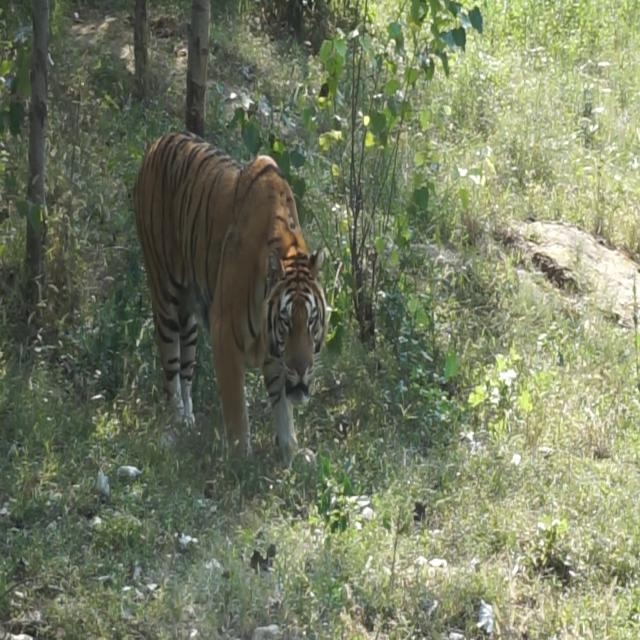Tiger: (122, 109, 369, 492)
